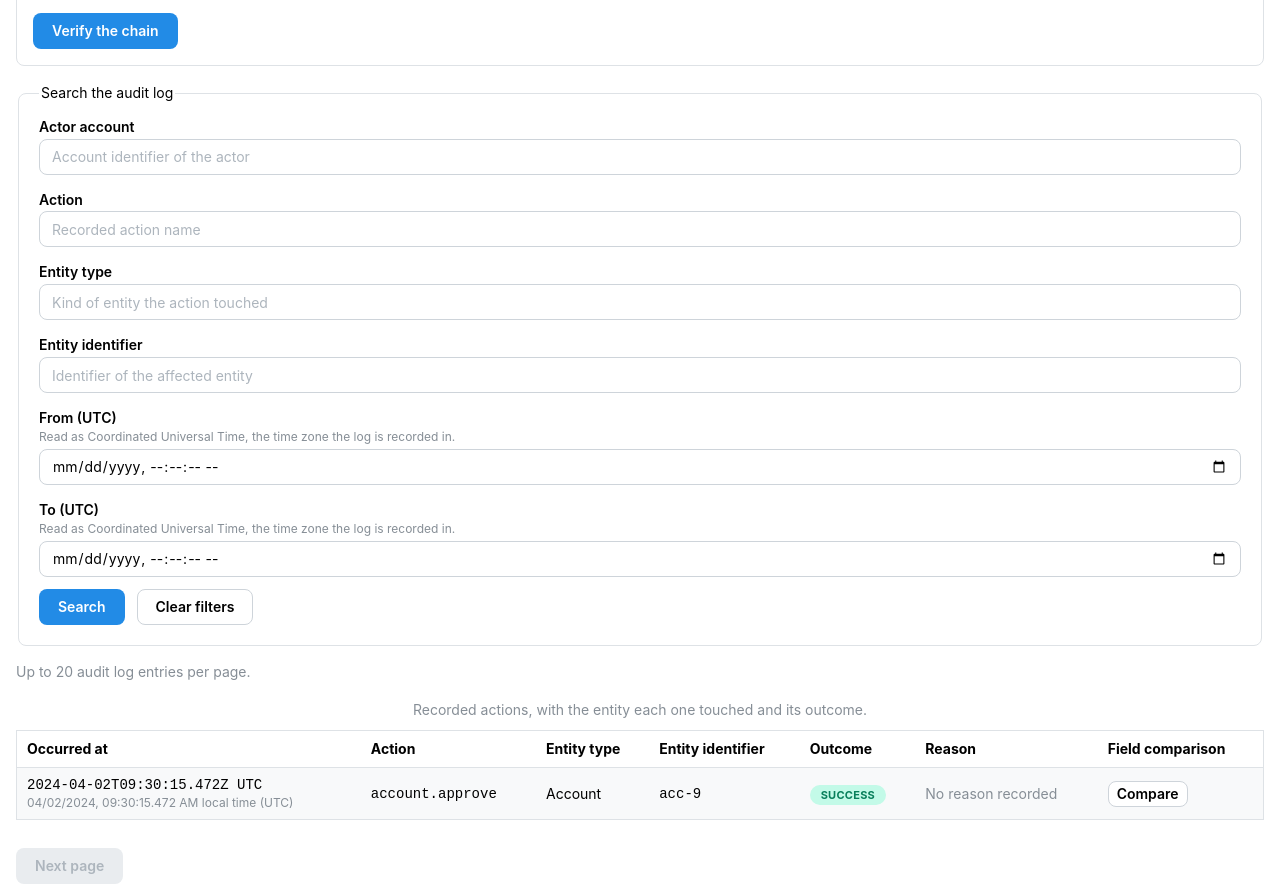
Test case: the before/after field comparison (Req 17 AC5) › states that an entry recorded no field values
The image size is (1280, 884).
(page scrolled)
Click the button with test id "audit-entry-compare-417" at (1148, 794), box [1108,781,1188,807]
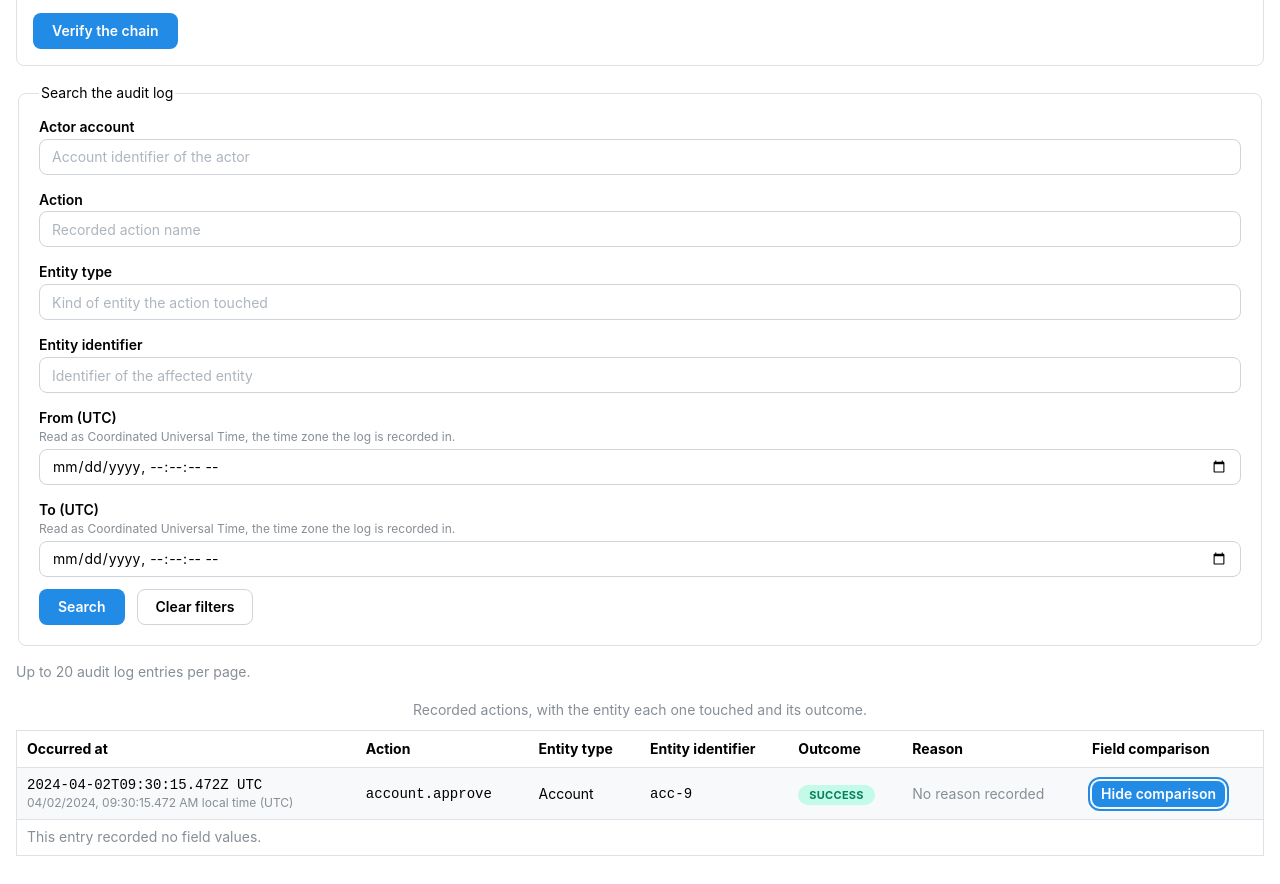
Now the text with test id "audit-comparison-empty" shows "recorded no field values", box [27,828,261,845]
